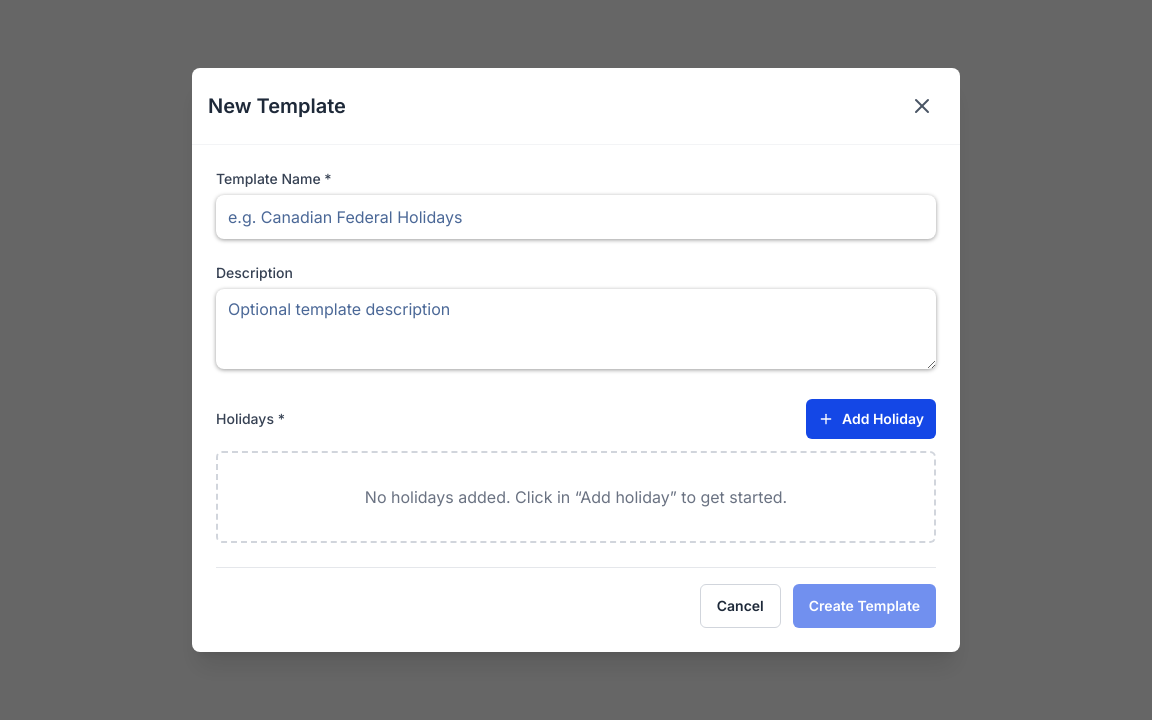
Test: TemplateFormModal › should add a holiday when "Add Holiday" is clicked
This screenshot has width=1152, height=720.
Step 1. Click the button "Add Holiday" → [871, 419], box [806, 399, 936, 439]
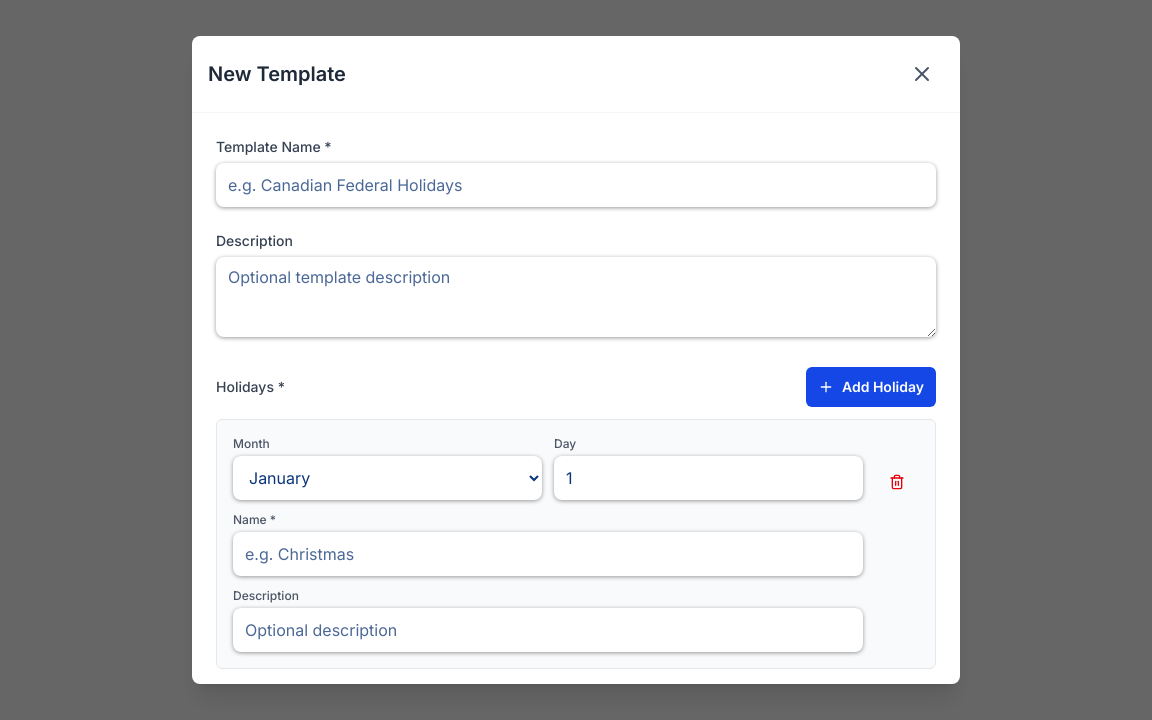
Expected: the text "Day" is shown, [554, 436, 576, 451]
Now the text "Month" is shown, box [233, 436, 270, 451]
